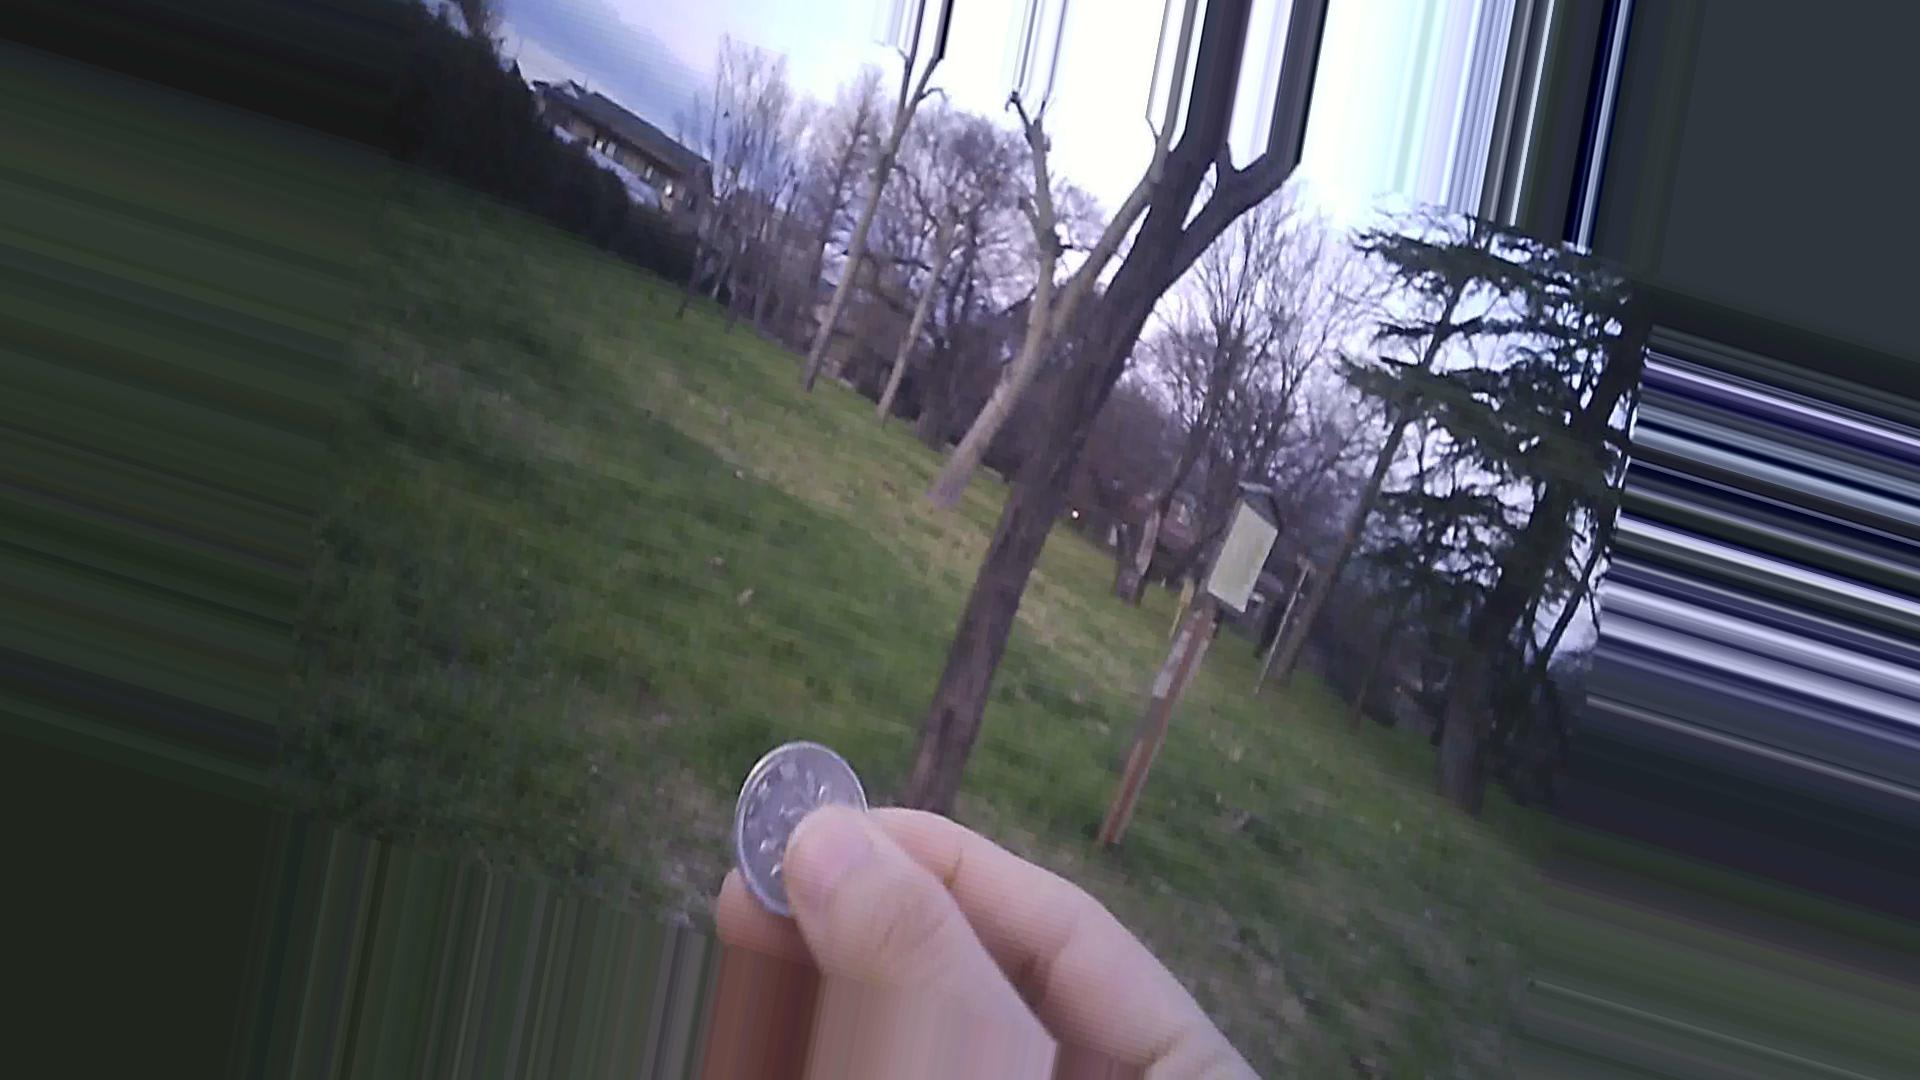1 Yen: (732, 738, 877, 919)
